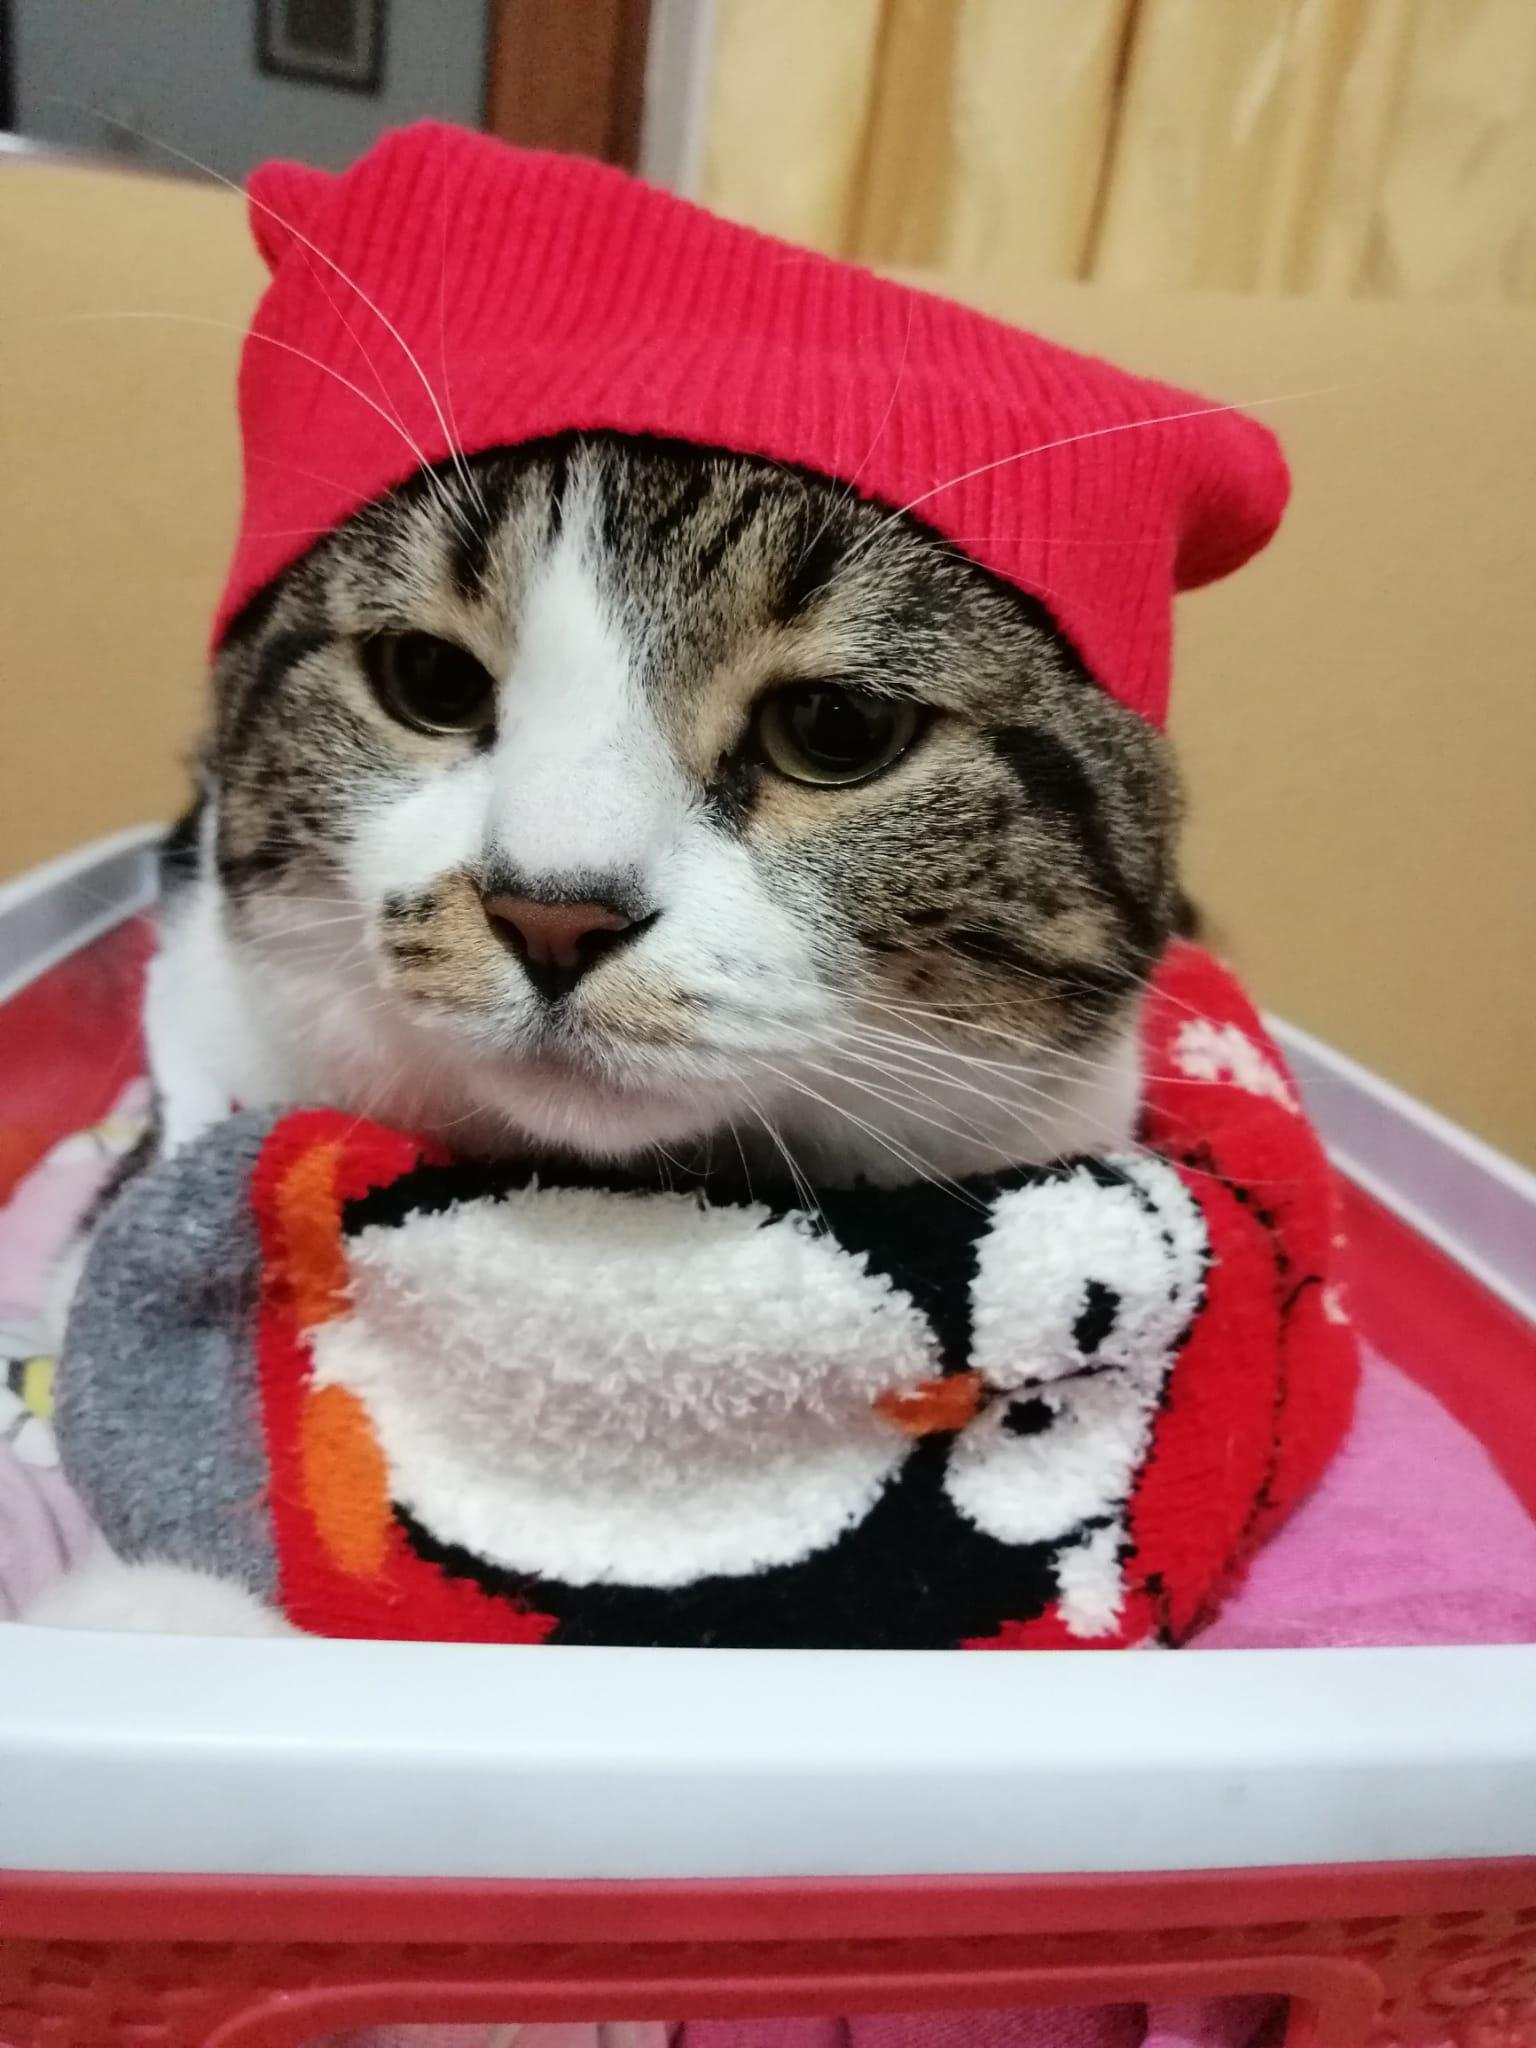kedo: (181, 321, 1167, 1142)
